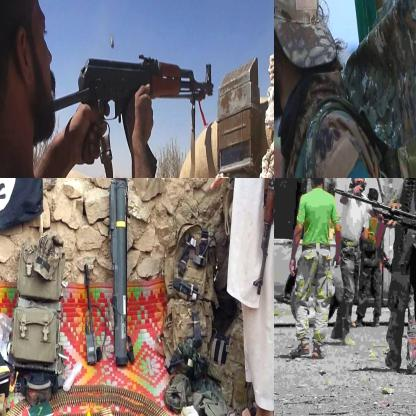rifle: (32, 51, 215, 161), (326, 184, 415, 274), (251, 178, 273, 301)
